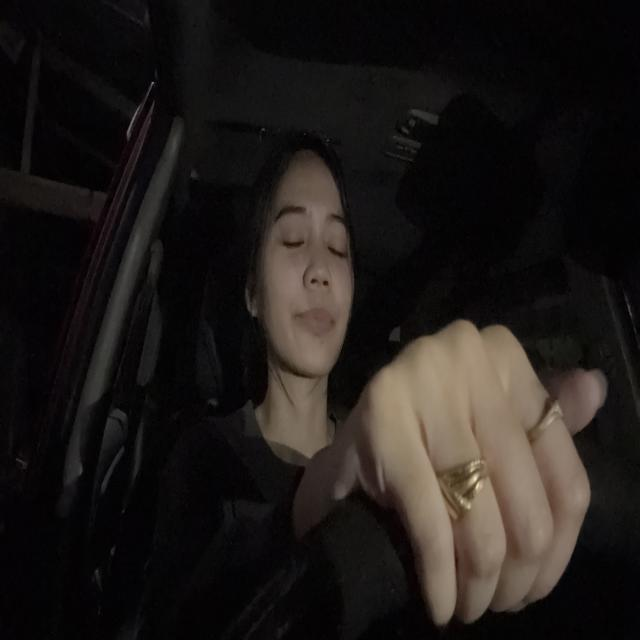close: (270, 202, 308, 260), (324, 209, 351, 264)
